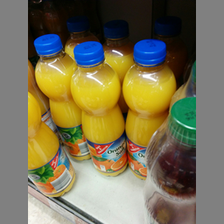juice: (121, 38, 177, 179), (69, 41, 127, 177), (32, 34, 92, 162), (28, 91, 78, 199)
